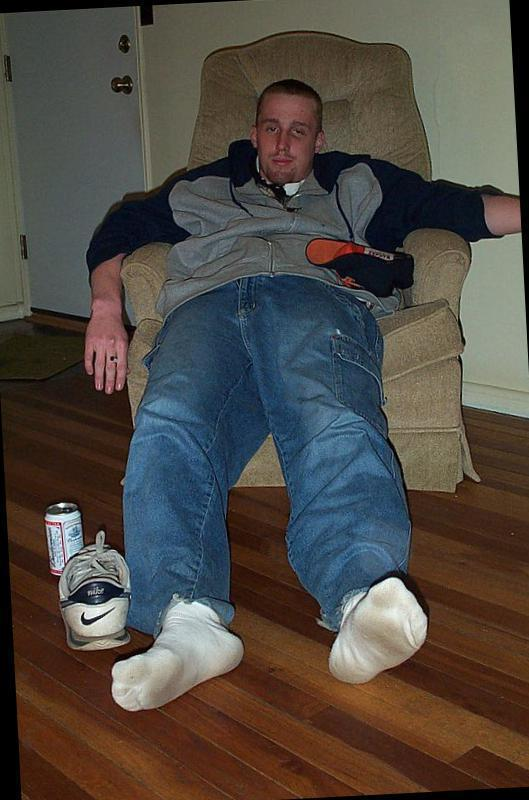Drunk: (256, 85, 315, 179)
